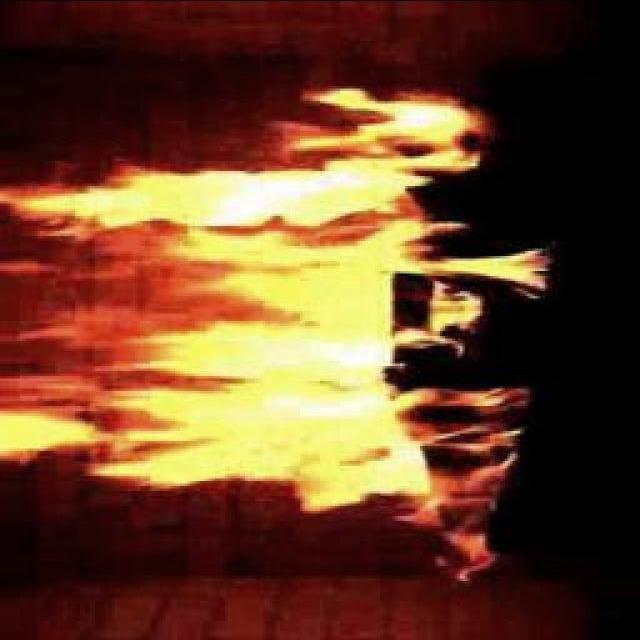Fire: (68, 118, 470, 491)
